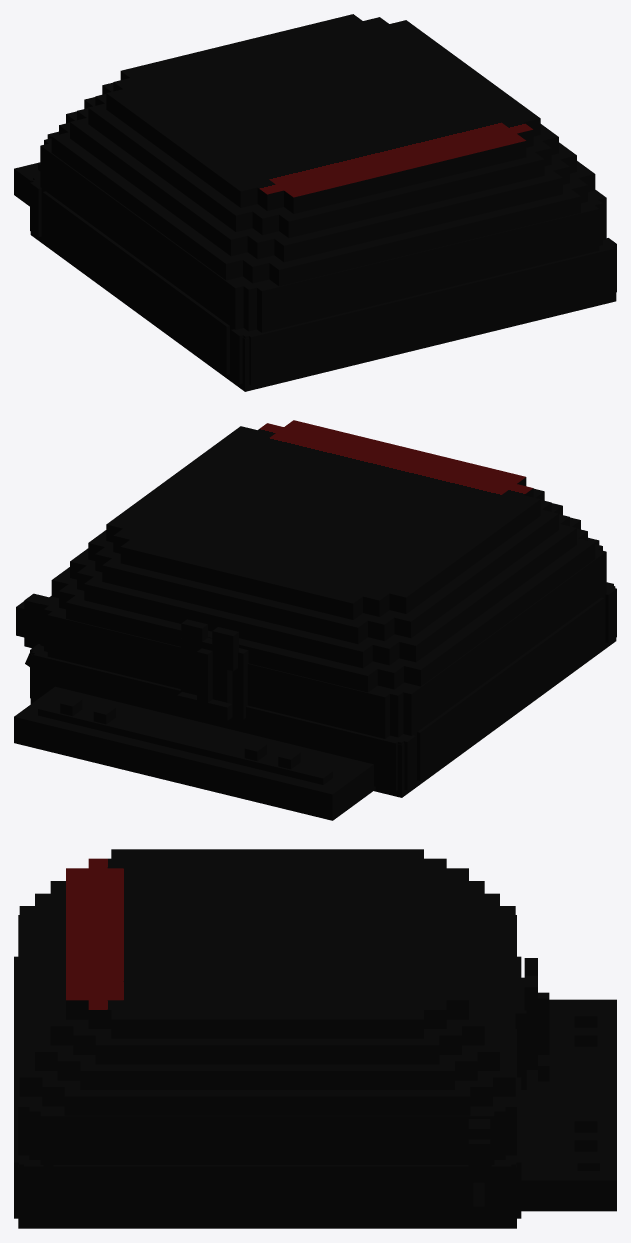
Rendered from hat_sea_captain.obj.
3 views of the same model, one above another, from view 1: azimuth 30°, elevation 25°; view 2: azimuth 150°, elevation 25°; view 3: azimuth 270°, elevation 25° (orthographic). The views are drawn at different scales.
Bounding box in the file's own units: 0.5969 × 0.2312 × 0.6688.
